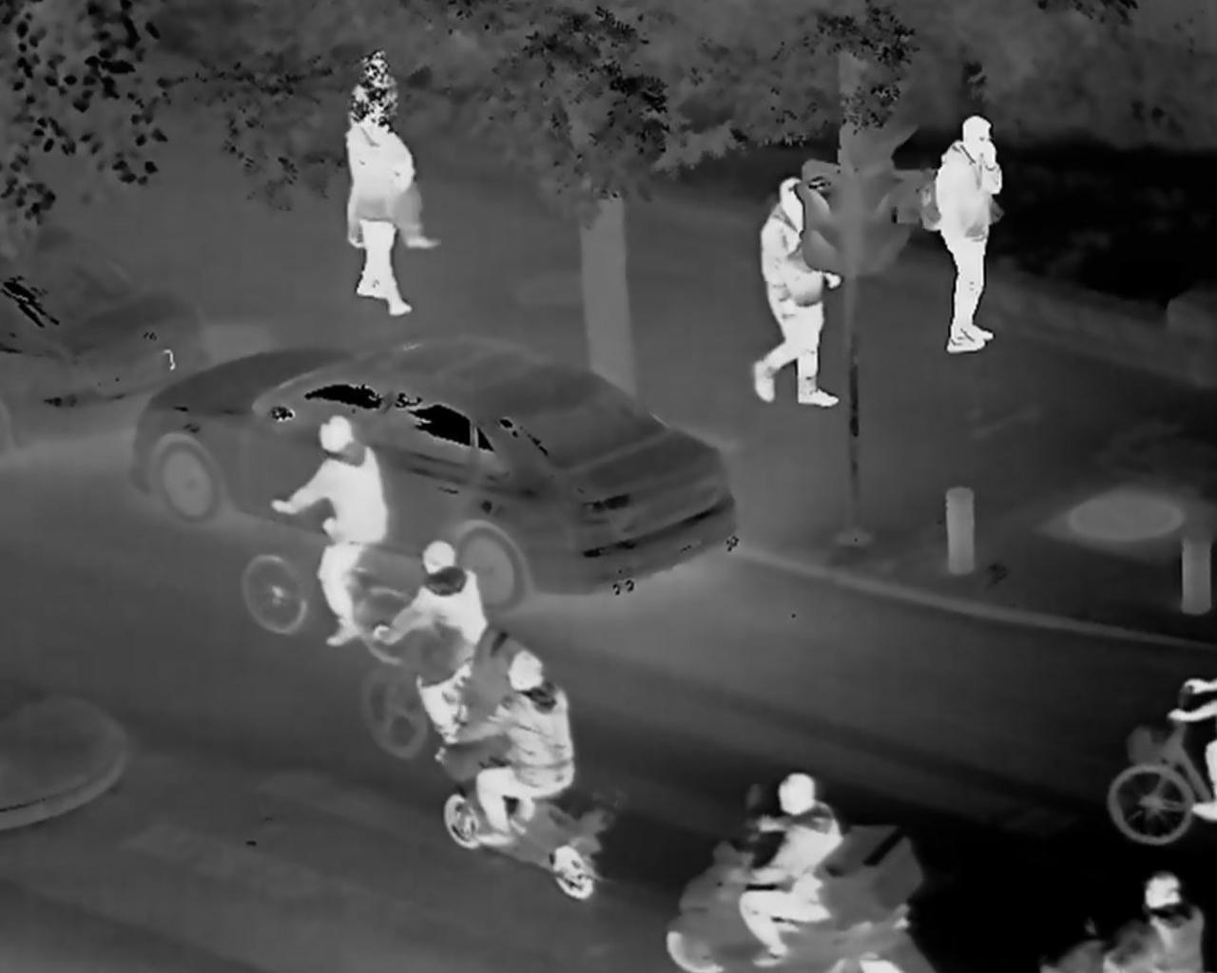person: (327, 48, 447, 251), (395, 542, 506, 754), (280, 408, 377, 648), (746, 170, 833, 417), (744, 768, 852, 960), (473, 648, 578, 841), (923, 116, 995, 350), (341, 105, 417, 315), (1103, 865, 1205, 973)
